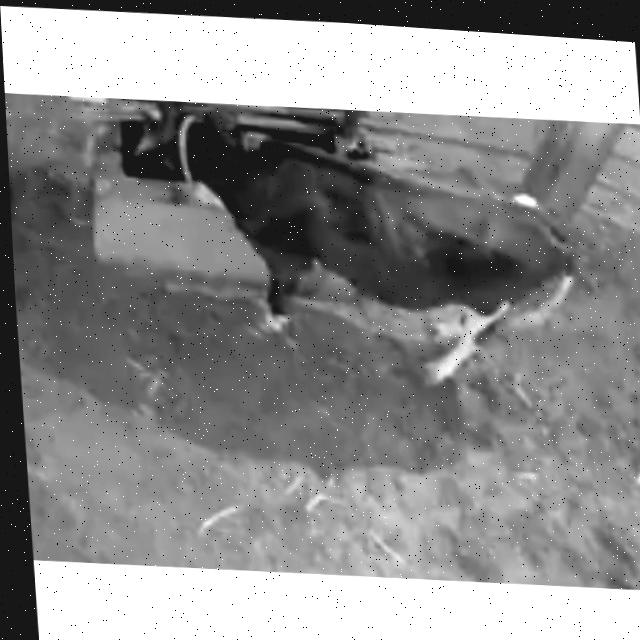drink: (111, 94, 296, 225)
